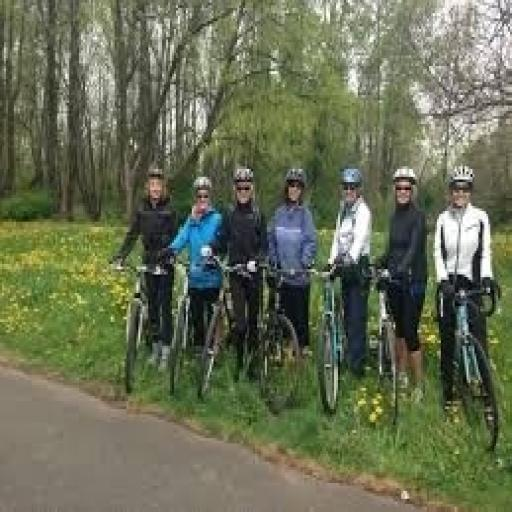cycling: (431, 161, 502, 433), (109, 164, 184, 374), (374, 164, 431, 404), (160, 174, 227, 364), (213, 164, 271, 380), (324, 164, 376, 382), (265, 164, 320, 364)
